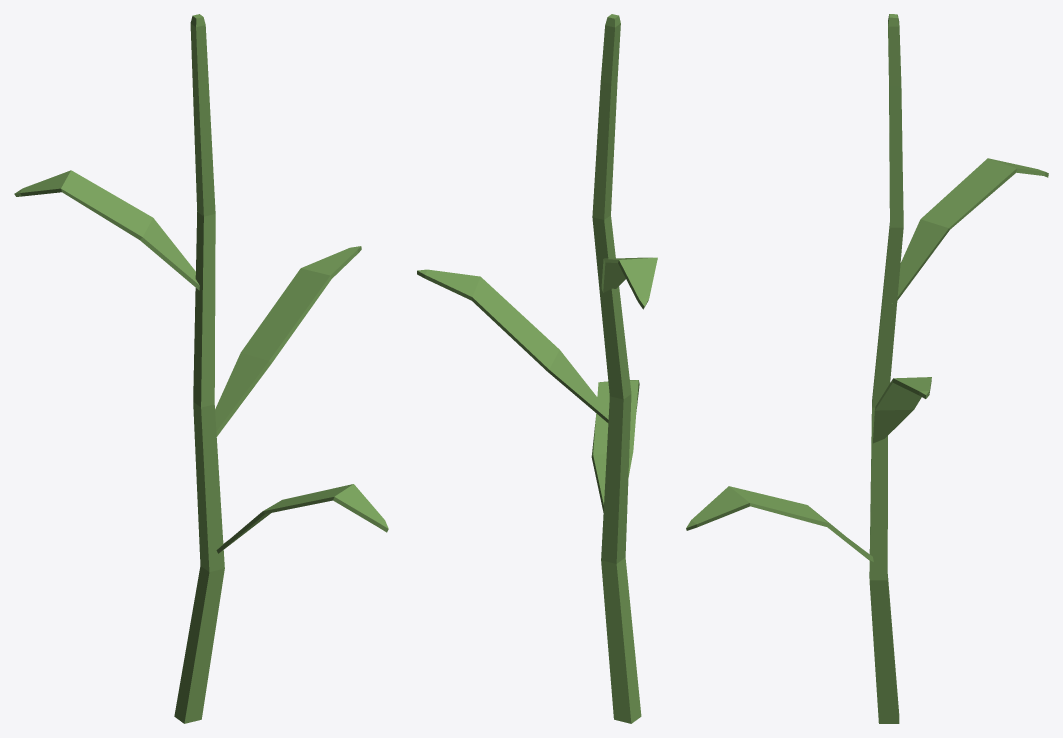
Rendered from Corn_2.gltf.
3 views of the same model, side by side, from view 1: azimuth 30°, elevation 25°; view 2: azimuth 150°, elevation 25°; view 3: azimuth 270°, elevation 25° (orthographic).
Visible parts, largest first — view 1: Corn_2; view 2: Corn_2; view 3: Corn_2.
Part boxes in pixels (<box>): Corn_2: <box>14,14,388,723</box>; Corn_2: <box>417,14,657,723</box>; Corn_2: <box>686,14,1048,723</box>.
Size of the model in its own units: 0.2837 by 0.6587 by 0.3051.
